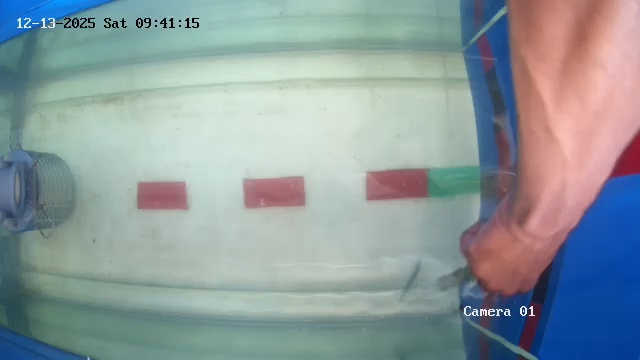fish: (406, 254, 450, 275)
